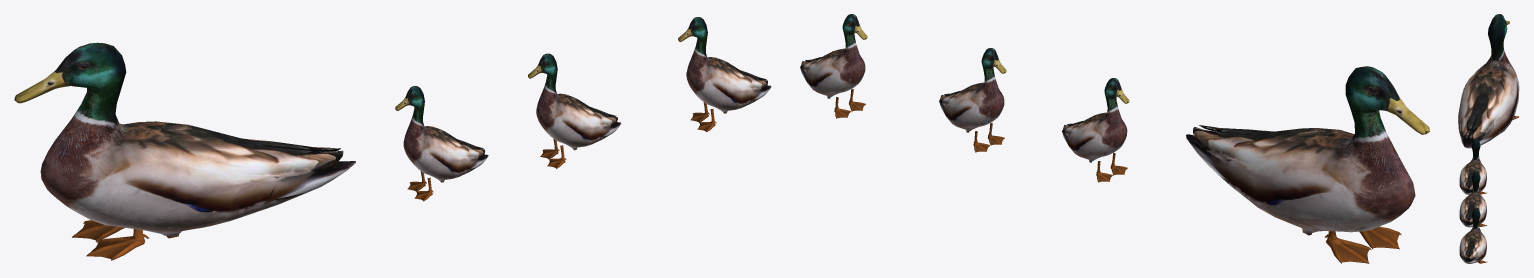
Rendered from movingDucks.obj.
3 renders of one model, left to right at view 1: azimuth 30°, elevation 25°; view 2: azimuth 150°, elevation 25°; view 3: azimuth 270°, elevation 25°, orthographic. The views are drawn at different scales.
Visible parts, largest first — view 1: 12248_Bird_v1_L2.003_12248_Bird_v1_L2.006, 12248_Bird_v1_L2.010_12248_Bird_v1_L2.013, 12248_Bird_v1_L2.011_12248_Bird_v1_L2.014, 12248_Bird_v1_L2.007_12248_Bird_v1_L2.010; view 2: 12248_Bird_v1_L2.003_12248_Bird_v1_L2.006, 12248_Bird_v1_L2.007_12248_Bird_v1_L2.010, 12248_Bird_v1_L2.011_12248_Bird_v1_L2.014, 12248_Bird_v1_L2.010_12248_Bird_v1_L2.013; view 3: 12248_Bird_v1_L2.003_12248_Bird_v1_L2.006, 12248_Bird_v1_L2.011_12248_Bird_v1_L2.014, 12248_Bird_v1_L2.010_12248_Bird_v1_L2.013, 12248_Bird_v1_L2.007_12248_Bird_v1_L2.010.
Part boxes in pixels (<box>): 12248_Bird_v1_L2.003_12248_Bird_v1_L2.006: <box>14,42,355,260</box>; 12248_Bird_v1_L2.010_12248_Bird_v1_L2.013: <box>528,53,621,168</box>; 12248_Bird_v1_L2.011_12248_Bird_v1_L2.014: <box>678,17,771,131</box>; 12248_Bird_v1_L2.007_12248_Bird_v1_L2.010: <box>395,86,488,201</box>; 12248_Bird_v1_L2.003_12248_Bird_v1_L2.006: <box>1186,66,1429,263</box>; 12248_Bird_v1_L2.007_12248_Bird_v1_L2.010: <box>1062,78,1129,182</box>; 12248_Bird_v1_L2.011_12248_Bird_v1_L2.014: <box>800,14,867,118</box>; 12248_Bird_v1_L2.010_12248_Bird_v1_L2.013: <box>939,48,1006,152</box>; 12248_Bird_v1_L2.003_12248_Bird_v1_L2.006: <box>1458,14,1519,148</box>; 12248_Bird_v1_L2.011_12248_Bird_v1_L2.014: <box>1459,207,1486,263</box>; 12248_Bird_v1_L2.010_12248_Bird_v1_L2.013: <box>1459,170,1486,227</box>; 12248_Bird_v1_L2.007_12248_Bird_v1_L2.010: <box>1459,138,1486,194</box>.
Size of the model in its own units: 0.7955 by 0.2189 by 0.1175.
